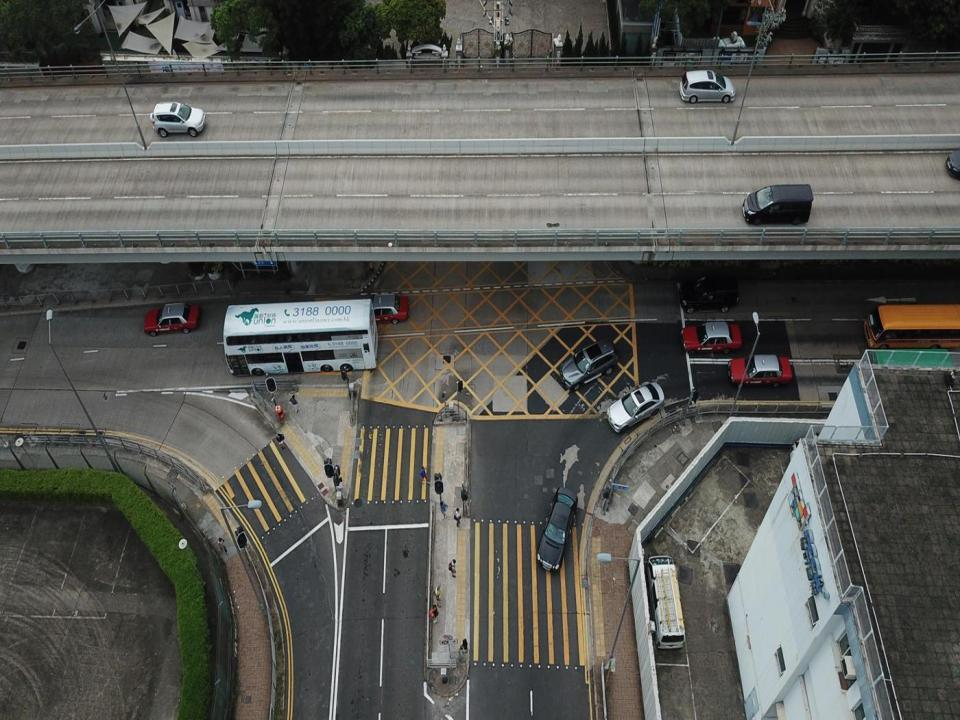bus: (223, 299, 378, 373), (862, 302, 960, 355)
car: (535, 487, 578, 570), (606, 382, 665, 433), (728, 354, 794, 386), (151, 102, 206, 136), (679, 68, 734, 102), (682, 322, 742, 350), (144, 302, 200, 332), (357, 294, 410, 323), (945, 146, 960, 181)
van: (648, 553, 684, 649), (741, 184, 813, 224), (560, 339, 617, 389)
